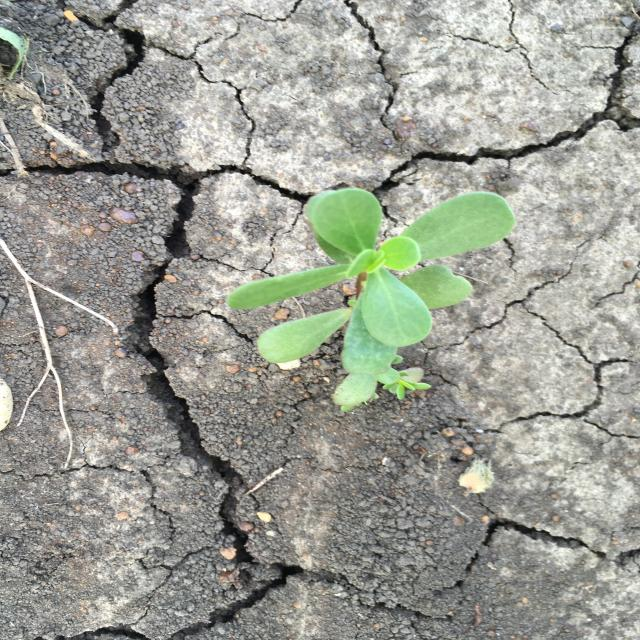Purslane: (225, 185, 518, 414)
